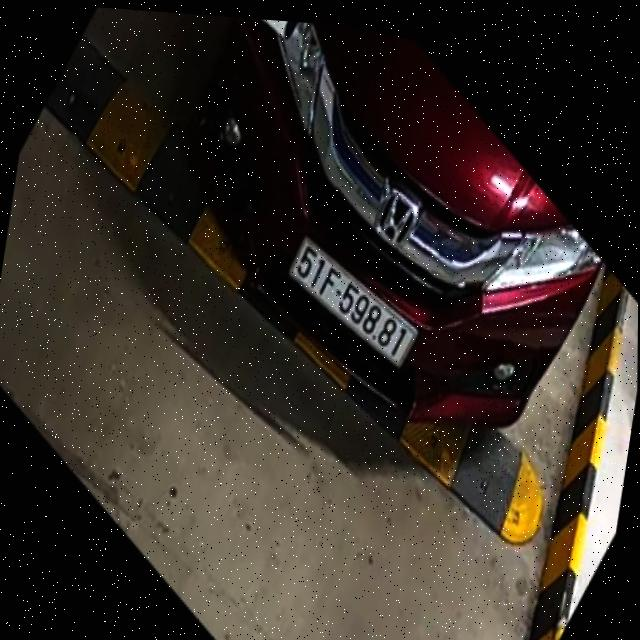car: (139, 11, 631, 461)
plate: (272, 229, 432, 375)
